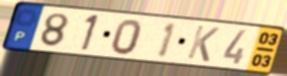0: (108, 17, 144, 57)
1: (78, 13, 102, 53), (156, 22, 179, 60)
4: (221, 29, 247, 65)
8: (39, 12, 73, 48)
K: (185, 24, 222, 64)
